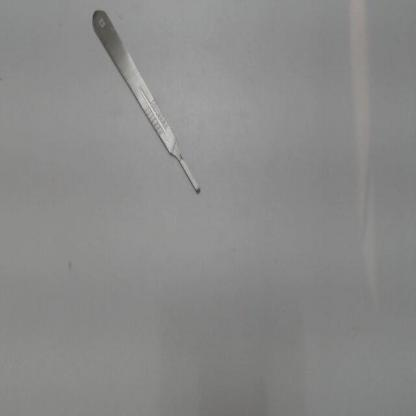No.4 BP Handle: (76, 3, 214, 212)
